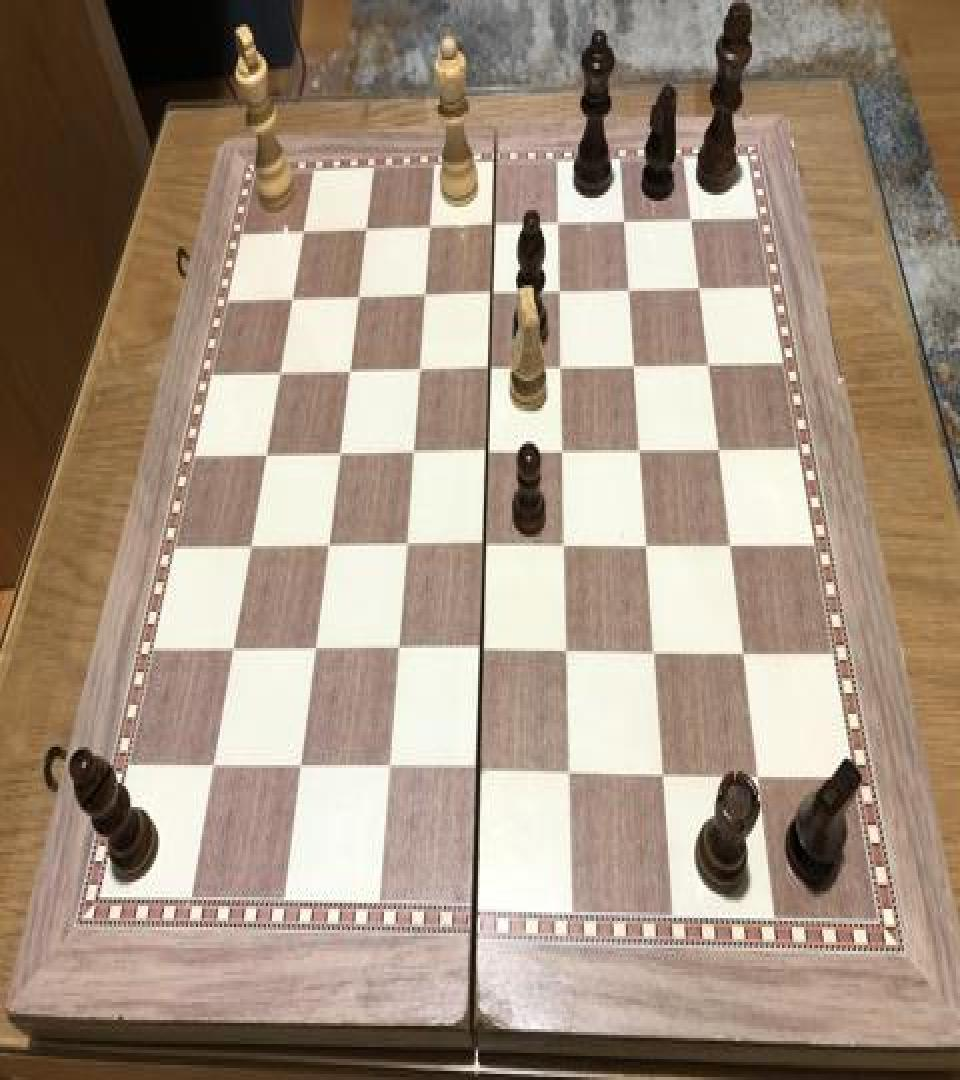xcorner: (560, 631, 584, 668), (474, 631, 498, 668), (656, 754, 680, 791), (291, 748, 315, 785), (682, 201, 706, 237), (617, 202, 641, 238), (551, 204, 575, 240), (423, 207, 447, 243), (359, 208, 383, 244), (297, 212, 321, 248), (691, 268, 715, 304), (621, 270, 645, 306), (553, 272, 577, 308), (485, 273, 509, 309), (417, 274, 441, 310), (351, 276, 375, 312), (285, 278, 309, 314), (700, 345, 724, 381), (627, 346, 651, 382), (554, 346, 578, 382), (483, 348, 507, 384), (412, 350, 436, 386), (342, 350, 366, 386), (272, 351, 296, 387), (710, 429, 734, 465), (480, 432, 504, 468), (405, 432, 429, 468), (331, 432, 355, 468), (258, 434, 282, 470), (722, 525, 746, 561), (640, 525, 664, 561), (558, 525, 582, 561), (477, 525, 501, 561), (398, 525, 422, 561), (319, 525, 343, 561), (242, 525, 266, 561), (735, 633, 759, 669), (647, 633, 671, 669), (390, 630, 414, 666), (306, 630, 330, 666), (223, 630, 247, 666), (751, 756, 775, 792), (563, 753, 587, 789), (471, 752, 495, 788), (380, 750, 404, 786), (203, 747, 227, 783), (487, 206, 511, 241), (633, 431, 657, 466), (556, 431, 580, 466)
